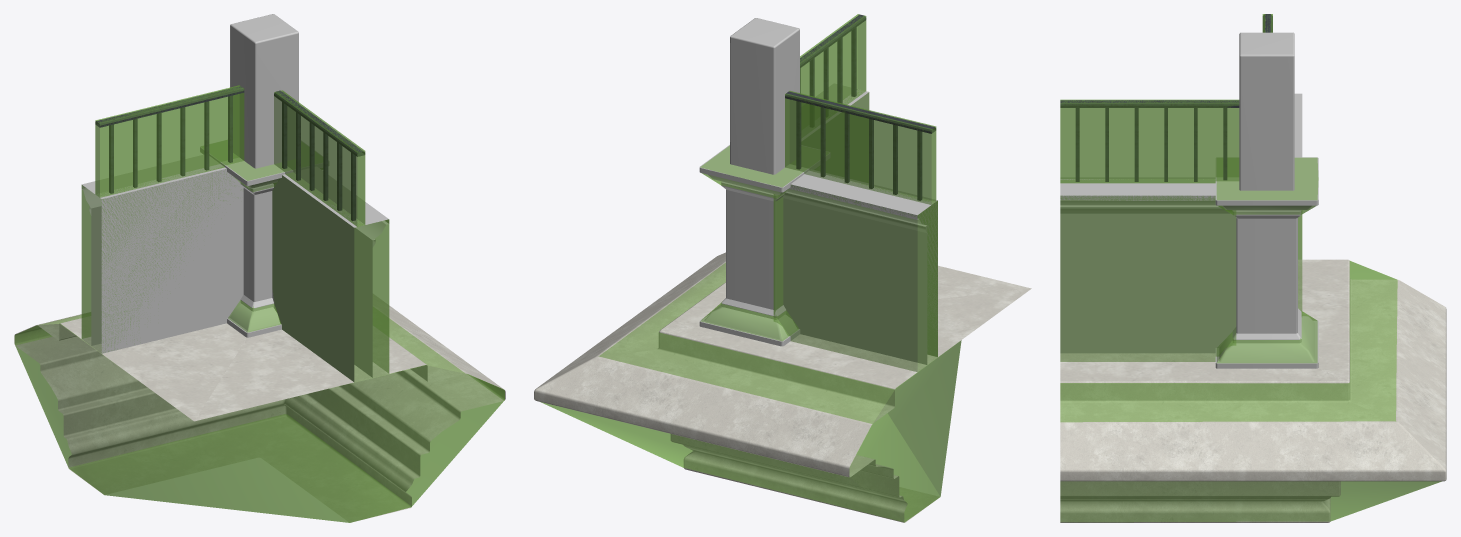
File: F9_md_Roof_90cnr_01.fbx
The picture shows the model from 3 angles, left to right: view 1: azimuth 30°, elevation 25°; view 2: azimuth 150°, elevation 25°; view 3: azimuth 270°, elevation 25°; orthographic projection. The views are drawn at different scales.
Visible parts, largest first — view 1: F9_md_Roof_90cnr_01_LOD0, F9_md_Roof_90cnr_01_col_1, F9_md_Roof_90cnr_01_col_3, F9_md_Roof_90cnr_01_col_8, F9_md_Roof_90cnr_01_col_9, F9_md_Roof_90cnr_01_col_2, F9_md_Roof_90cnr_01_col_5, F9_md_Roof_90cnr_01_col_4; view 2: F9_md_Roof_90cnr_01_LOD0, F9_md_Roof_90cnr_01_col_1, F9_md_Roof_90cnr_01_col_2, F9_md_Roof_90cnr_01_col_8, F9_md_Roof_90cnr_01_col_9, F9_md_Roof_90cnr_01_col_5, F9_md_Roof_90cnr_01_col_4; view 3: F9_md_Roof_90cnr_01_LOD0, F9_md_Roof_90cnr_01_col_1, F9_md_Roof_90cnr_01_col_3, F9_md_Roof_90cnr_01_col_9, F9_md_Roof_90cnr_01_col_4, F9_md_Roof_90cnr_01_col_5, F9_md_Roof_90cnr_01_col_2.
Part boxes in pixels (x1=…): F9_md_Roof_90cnr_01_LOD0: x1=14, y1=14, x2=505, y2=522; F9_md_Roof_90cnr_01_col_1: x1=14, y1=315, x2=504, y2=522; F9_md_Roof_90cnr_01_col_3: x1=272, y1=175, x2=389, y2=382; F9_md_Roof_90cnr_01_col_8: x1=95, y1=85, x2=244, y2=197; F9_md_Roof_90cnr_01_col_9: x1=274, y1=90, x2=365, y2=226; F9_md_Roof_90cnr_01_col_2: x1=81, y1=171, x2=241, y2=353; F9_md_Roof_90cnr_01_col_5: x1=228, y1=300, x2=280, y2=332; F9_md_Roof_90cnr_01_col_4: x1=222, y1=157, x2=322, y2=192; F9_md_Roof_90cnr_01_LOD0: x1=534, y1=14, x2=1031, y2=522; F9_md_Roof_90cnr_01_col_1: x1=540, y1=262, x2=961, y2=522; F9_md_Roof_90cnr_01_col_2: x1=773, y1=184, x2=937, y2=371; F9_md_Roof_90cnr_01_col_8: x1=785, y1=91, x2=936, y2=204; F9_md_Roof_90cnr_01_col_9: x1=800, y1=14, x2=866, y2=129; F9_md_Roof_90cnr_01_col_5: x1=700, y1=302, x2=798, y2=341; F9_md_Roof_90cnr_01_col_4: x1=700, y1=145, x2=807, y2=198; F9_md_Roof_90cnr_01_LOD0: x1=1060, y1=14, x2=1446, y2=522; F9_md_Roof_90cnr_01_col_1: x1=1060, y1=261, x2=1441, y2=522; F9_md_Roof_90cnr_01_col_3: x1=1060, y1=195, x2=1236, y2=361; F9_md_Roof_90cnr_01_col_9: x1=1060, y1=99, x2=1239, y2=183; F9_md_Roof_90cnr_01_col_4: x1=1216, y1=157, x2=1318, y2=214; F9_md_Roof_90cnr_01_col_5: x1=1216, y1=311, x2=1317, y2=363; F9_md_Roof_90cnr_01_col_2: x1=1298, y1=214, x2=1302, y2=312.
Size of what is drawn, in the model's own units: 200 by 259 by 200.
